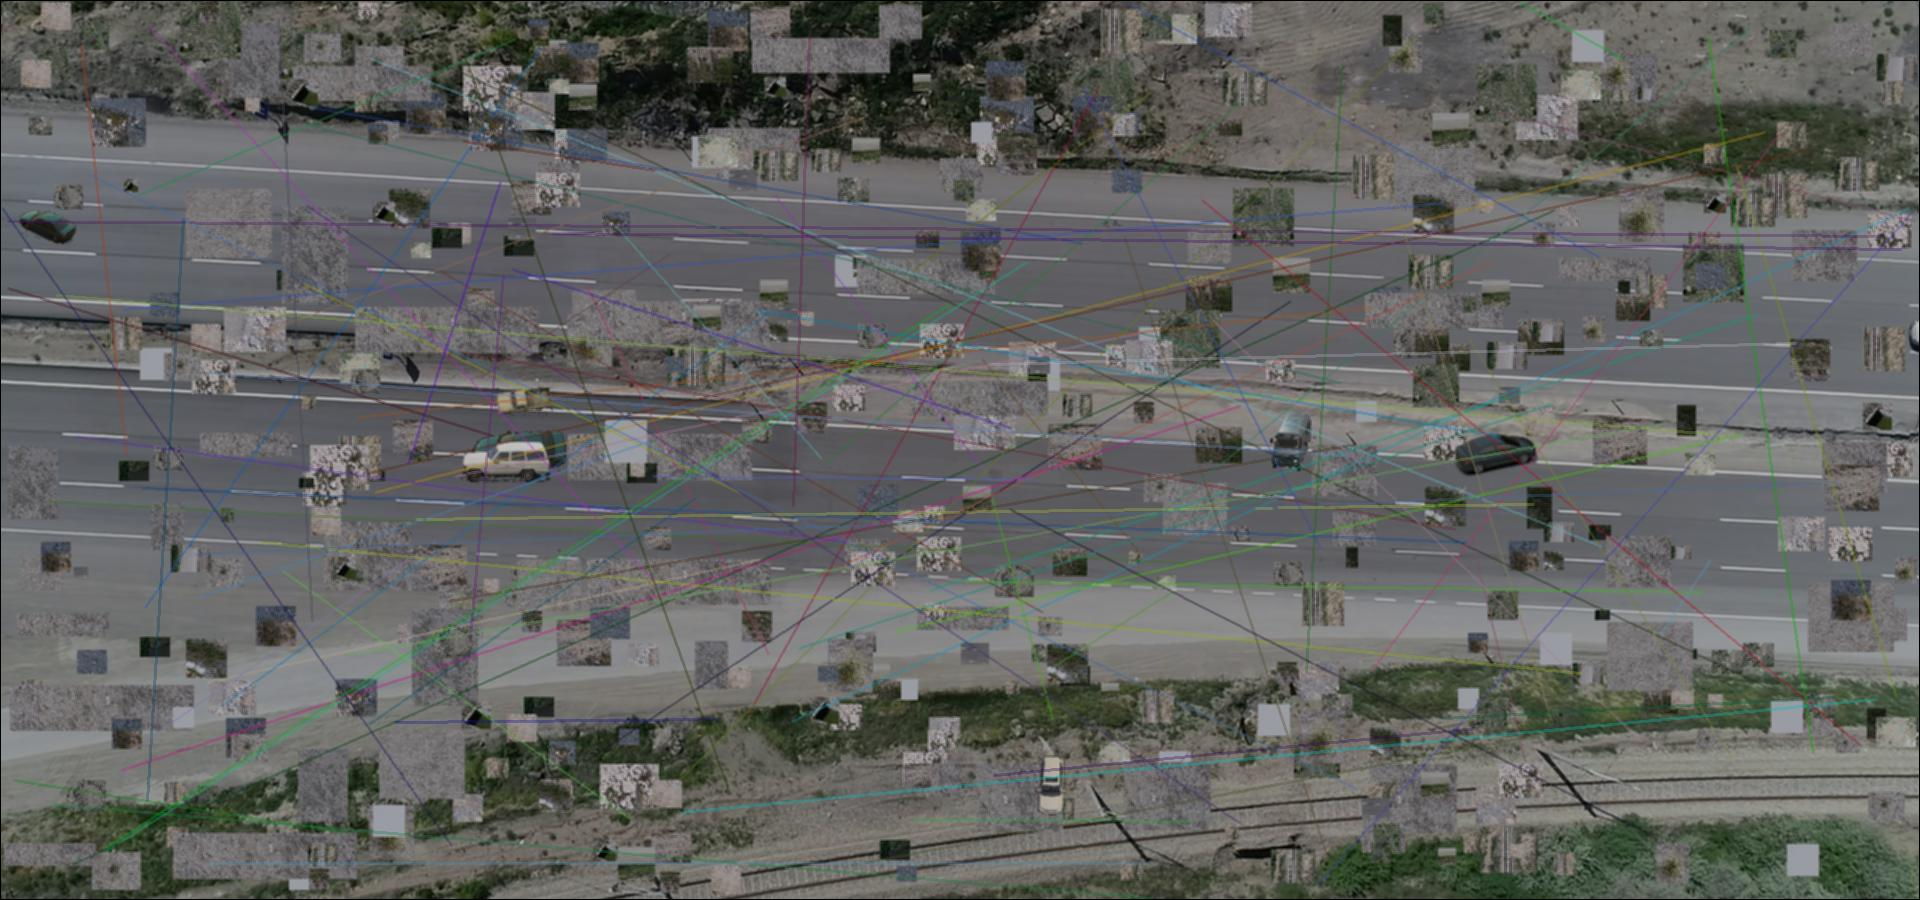arac: (471, 429, 566, 471), (460, 440, 550, 482), (1452, 433, 1538, 478), (1269, 411, 1311, 471), (17, 207, 77, 244), (1036, 756, 1067, 816), (497, 387, 553, 416)
